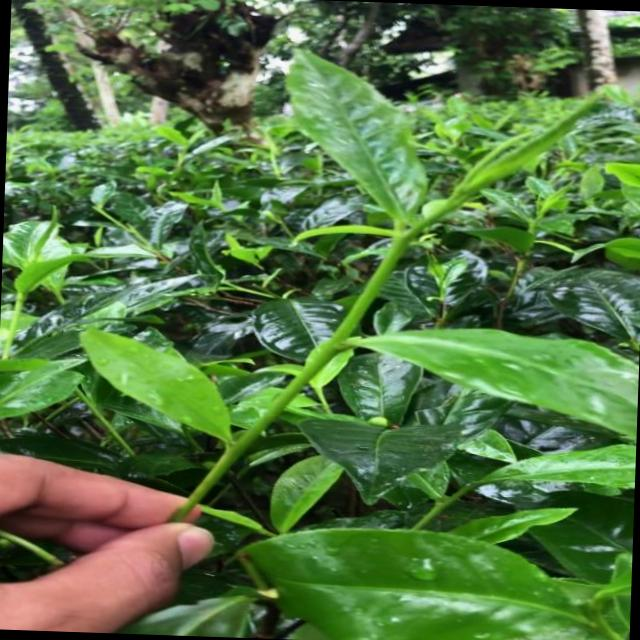Stem: (394, 233, 406, 249)
